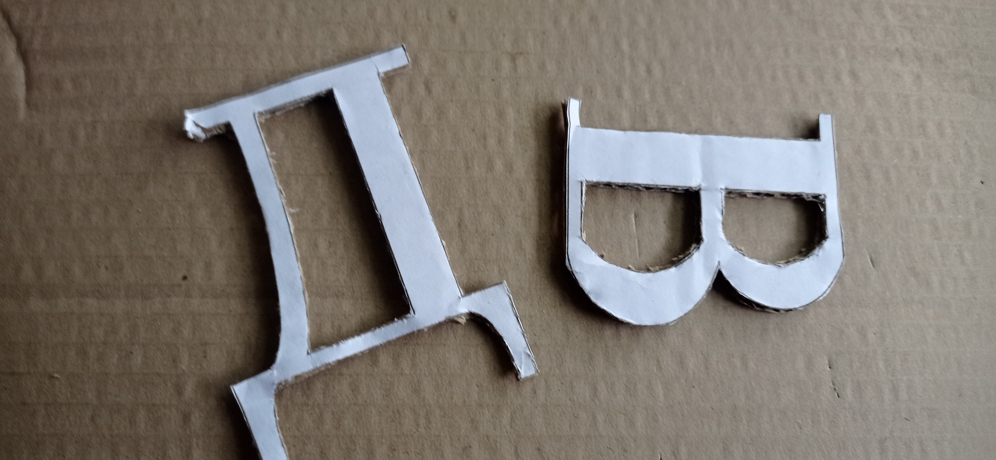d: (184, 44, 539, 460)
v: (561, 96, 847, 327)
